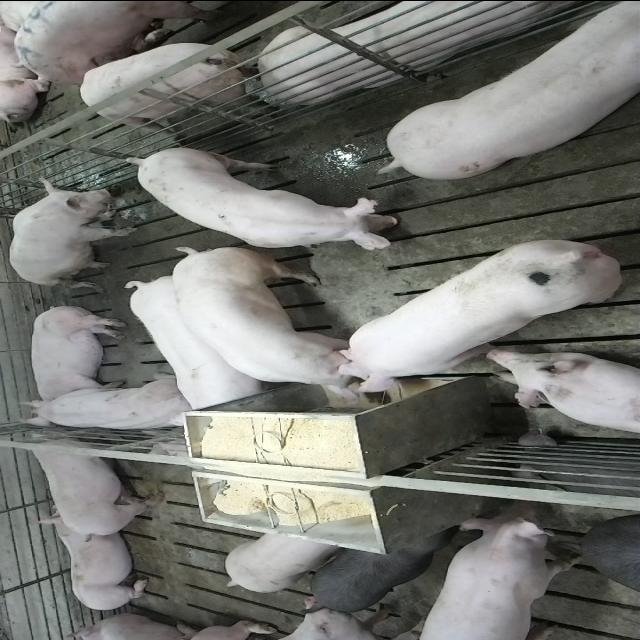Feeding: (332, 236, 624, 400), (168, 248, 382, 412)
Lateral_lying: (19, 302, 129, 414)
Sitting: (7, 174, 140, 286)
Standing: (383, 0, 640, 176), (128, 144, 414, 248), (410, 508, 584, 638), (122, 272, 263, 412), (76, 34, 276, 130), (10, 0, 232, 80), (19, 434, 167, 538), (304, 536, 448, 614), (224, 530, 342, 592)
Sternal_lying: (257, 0, 606, 100), (482, 348, 640, 437), (36, 517, 154, 612)
